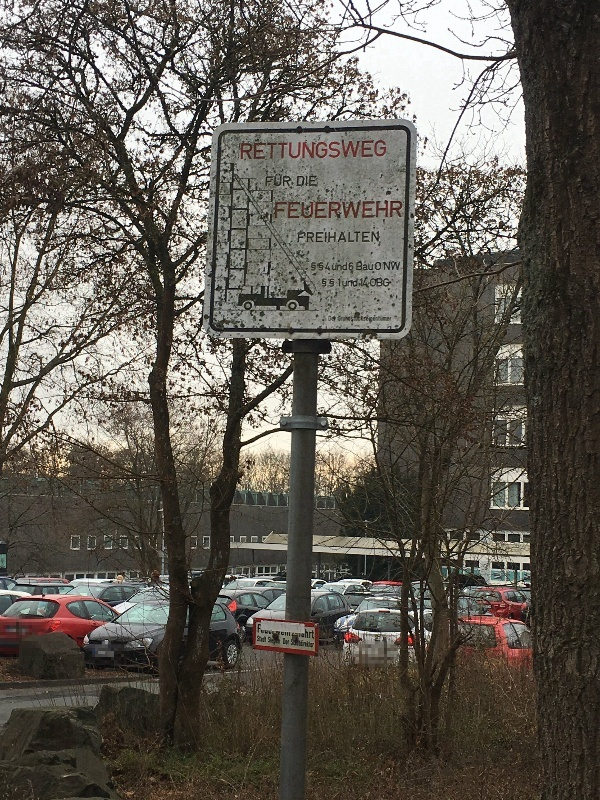text: (257, 140, 272, 161), (273, 140, 288, 161), (289, 140, 304, 161), (305, 140, 320, 161), (321, 140, 336, 161), (337, 140, 352, 161), (353, 140, 368, 161), (369, 140, 384, 161), (242, 140, 256, 161), (289, 201, 304, 220), (305, 201, 320, 220), (321, 201, 336, 220), (337, 201, 352, 220), (353, 201, 368, 220), (369, 201, 384, 220), (385, 201, 400, 220), (276, 201, 288, 220), (273, 624, 288, 639), (289, 624, 304, 639), (258, 624, 272, 639), (305, 231, 320, 243), (321, 231, 336, 243), (337, 231, 352, 243), (353, 231, 368, 243), (273, 176, 288, 187), (385, 262, 401, 271), (305, 624, 314, 639), (305, 176, 317, 187), (291, 639, 304, 649), (322, 278, 336, 287), (338, 278, 352, 287), (257, 635, 272, 643), (369, 231, 379, 243), (370, 279, 384, 287), (357, 262, 368, 271), (325, 262, 336, 271), (337, 262, 348, 271), (305, 639, 314, 649), (343, 278, 352, 288), (360, 276, 368, 287), (297, 231, 304, 243), (311, 262, 320, 271), (375, 262, 384, 271), (297, 176, 304, 187), (273, 636, 280, 646), (266, 176, 272, 187), (385, 279, 392, 287), (330, 279, 336, 288), (353, 278, 358, 288), (369, 262, 374, 271), (385, 140, 387, 161), (268, 636, 272, 646), (283, 638, 288, 646), (401, 201, 403, 220), (332, 262, 336, 271), (289, 176, 292, 187), (349, 262, 352, 271), (353, 262, 354, 271), (383, 262, 384, 271), (289, 638, 290, 646)
